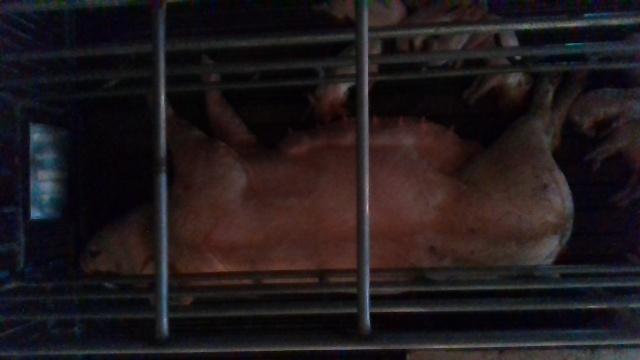piglet: (308, 38, 380, 121), (420, 0, 493, 66), (583, 123, 640, 207), (394, 2, 474, 56), (462, 57, 529, 115), (568, 86, 640, 138), (311, 0, 408, 27)
sow-sleep-lactate: (81, 51, 578, 296)
